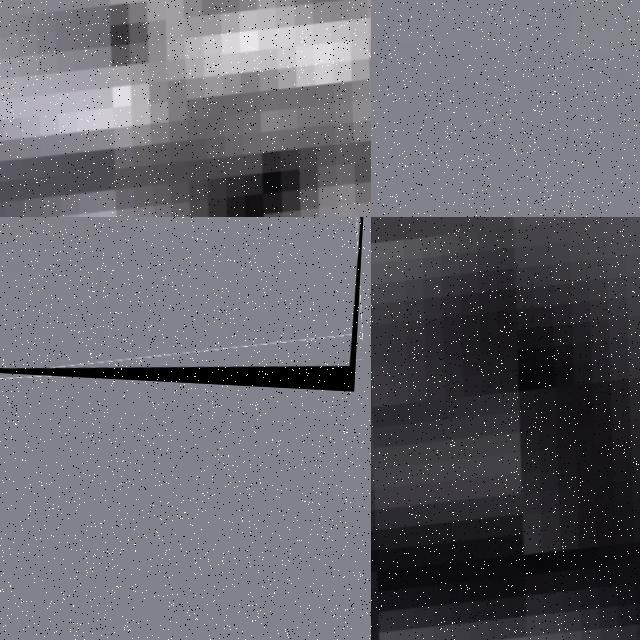drone: (371, 217, 640, 640), (0, 0, 371, 217), (0, 217, 367, 391)
